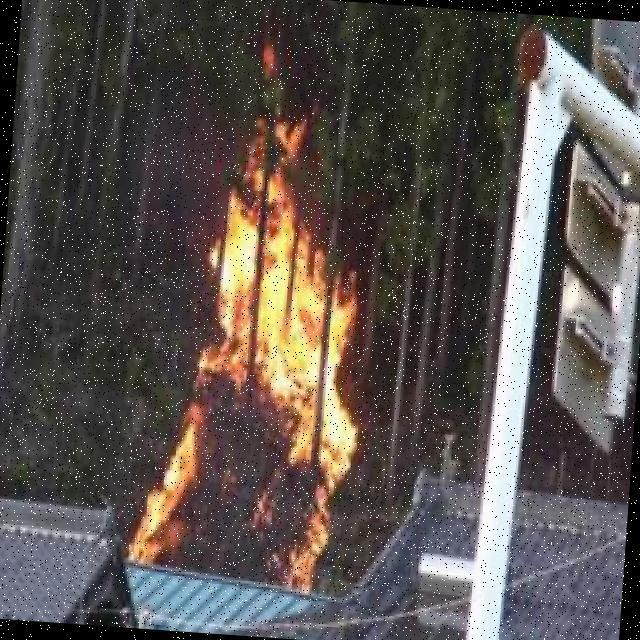Fire: (138, 125, 378, 589)
